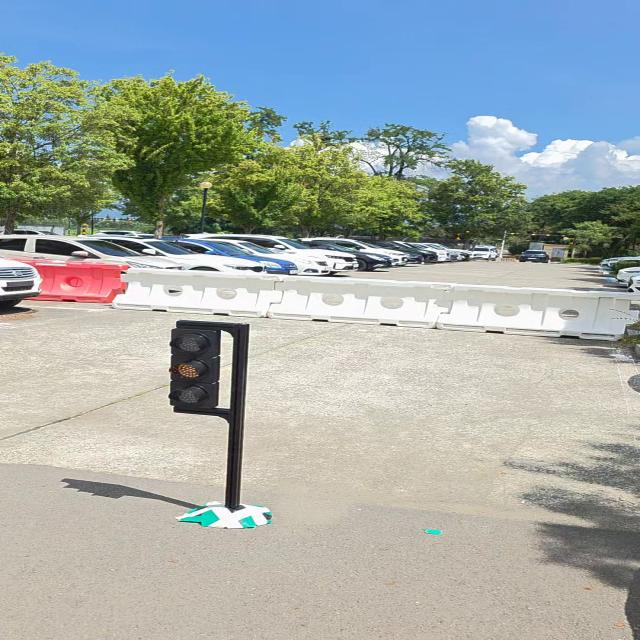yellow: (169, 328, 220, 408)
